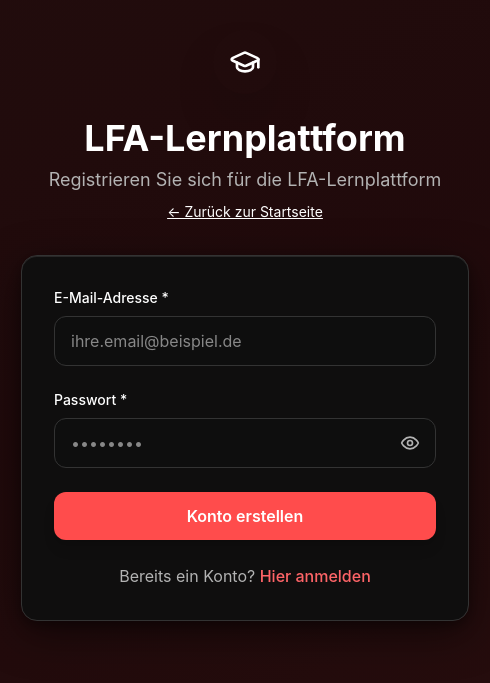
RegisterPage › the password rule › refuses 1234567 before anything is sent
The image size is (490, 683).
Type "azubi@example.com" into the field labelled "E-Mail-Adresse *". click: [245, 340]
box: [54,316,436,366]
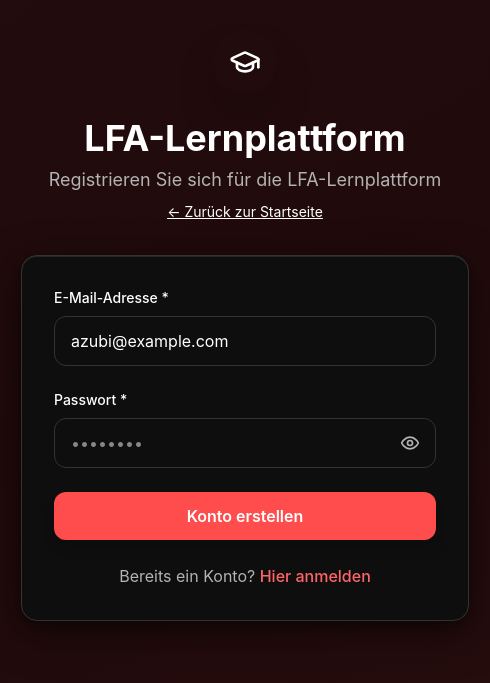
Type "1234567" into the password field labelled "Passwort *". click: [245, 442]
box: [54,418,436,468]
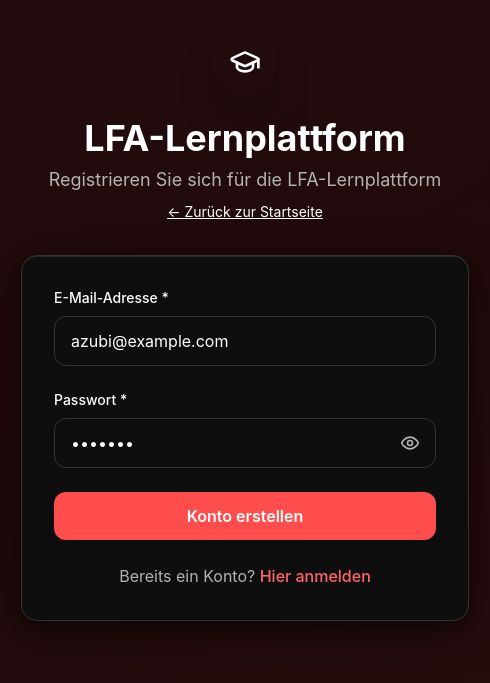
Click the button "Konto erstellen". click: [245, 516]
box: [54,492,436,540]
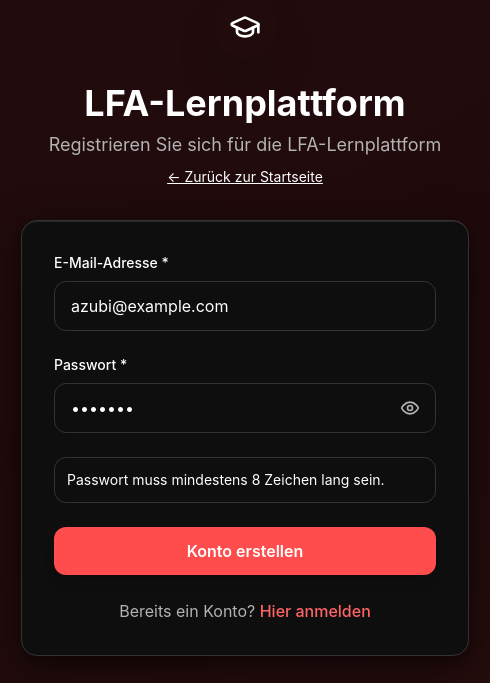
Check: the text "Passwort muss mindestens 8 Zeichen lang sein." is shown, box [67,470,423,490]
